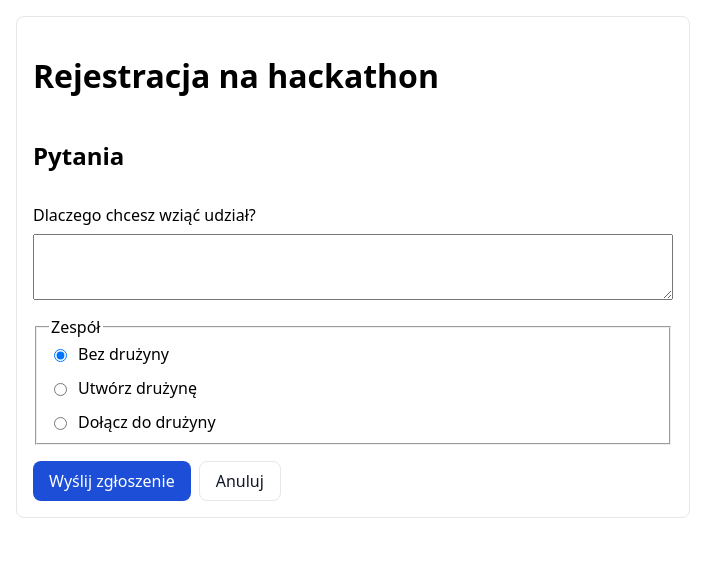
Test: RegistrationEntryPage › loads questions and validates required answers
This screenshot has width=707, height=565.
Expected: the text box labelled "Dlaczego chcesz wziąć udział?" is shown, [33, 234, 673, 300]
Click the button "Wyślij zgłoszenie": x=112, y=481 [33, 461, 191, 501]
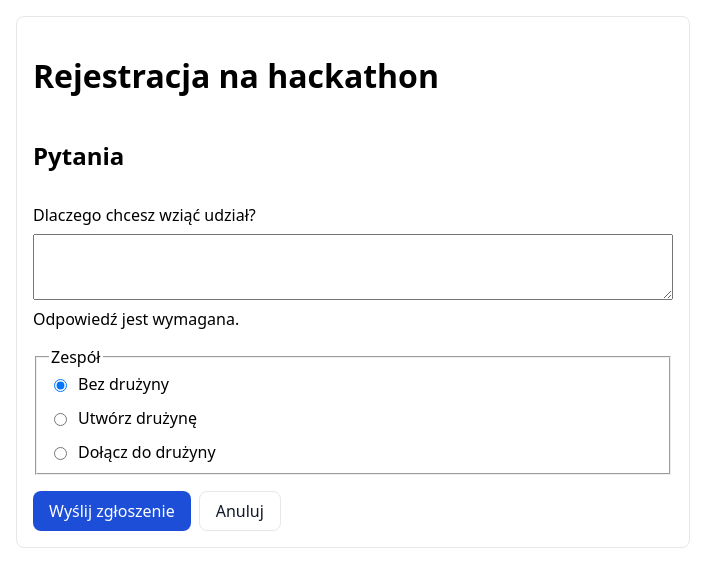
Expected: the text "Odpowiedź jest wymagana." is shown, [33, 308, 239, 330]
